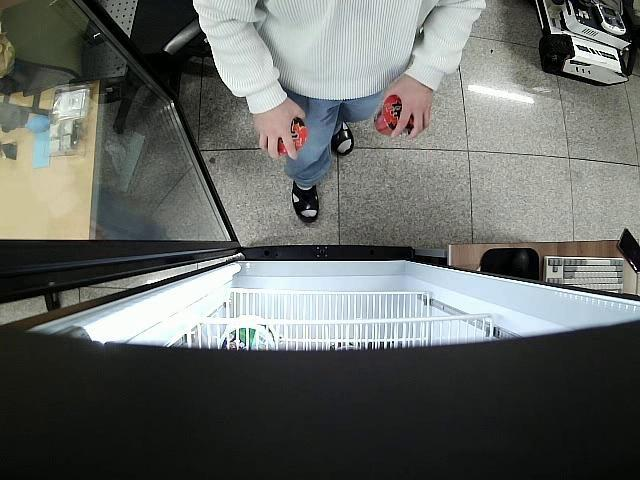02_shinRamen_S: (374, 94, 413, 138), (266, 116, 307, 153)
